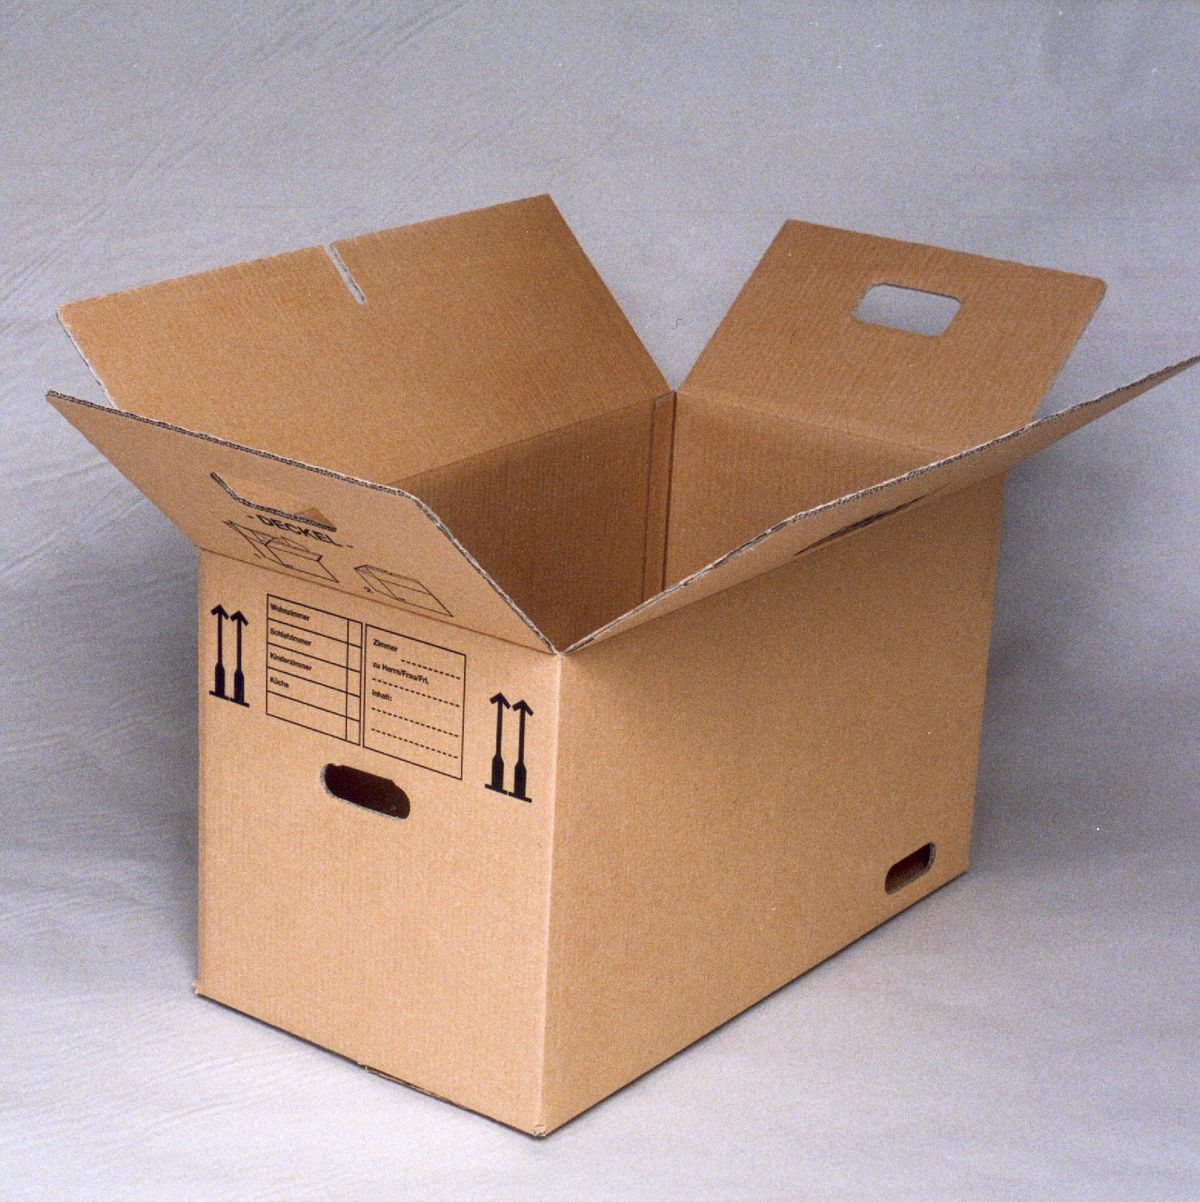Rec_Paper: (1, 97, 1174, 1186)
